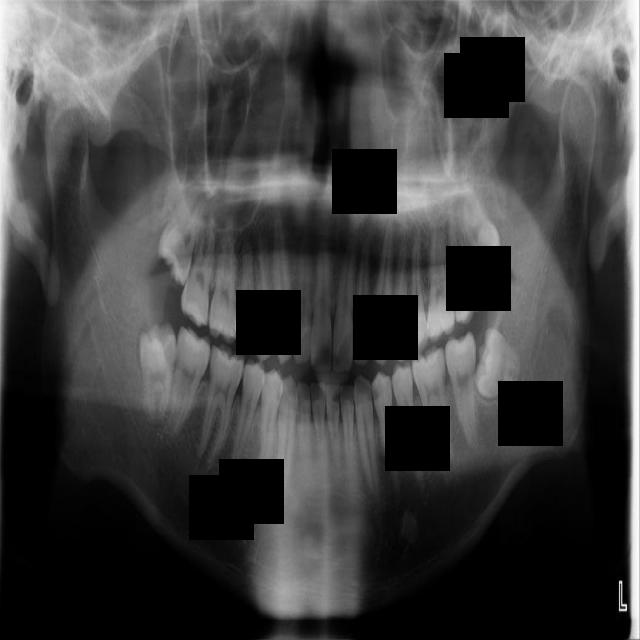3M ESPE Implant: (150, 166, 212, 287)
73: (612, 596, 624, 608)
BioHorizons Implant: (443, 189, 484, 327)
BioLife Implant: (448, 176, 510, 283)
Biomet 3i Implant: (470, 326, 527, 404)
Blue Sky Bio Implant: (444, 331, 478, 449)
Caries: (178, 190, 221, 328)
Implant: (168, 324, 213, 434)
Keystone Dental Implant: (138, 320, 182, 422)
